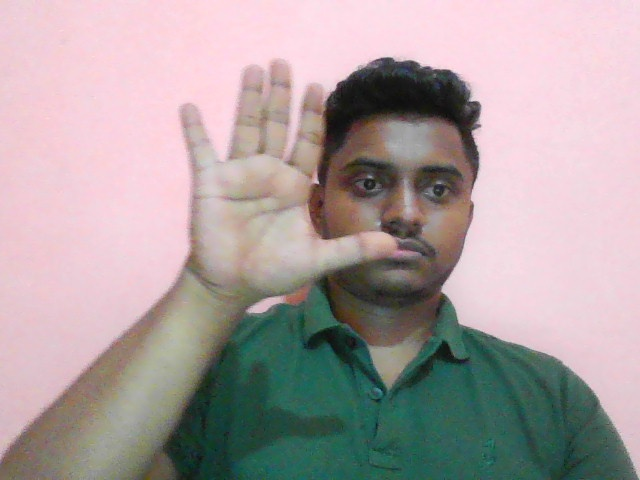Hello: (173, 56, 400, 306)
